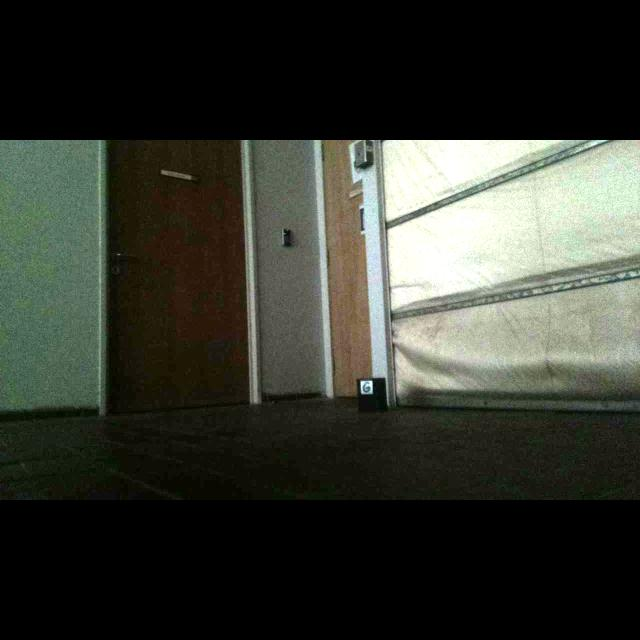G: (363, 382, 371, 393)
